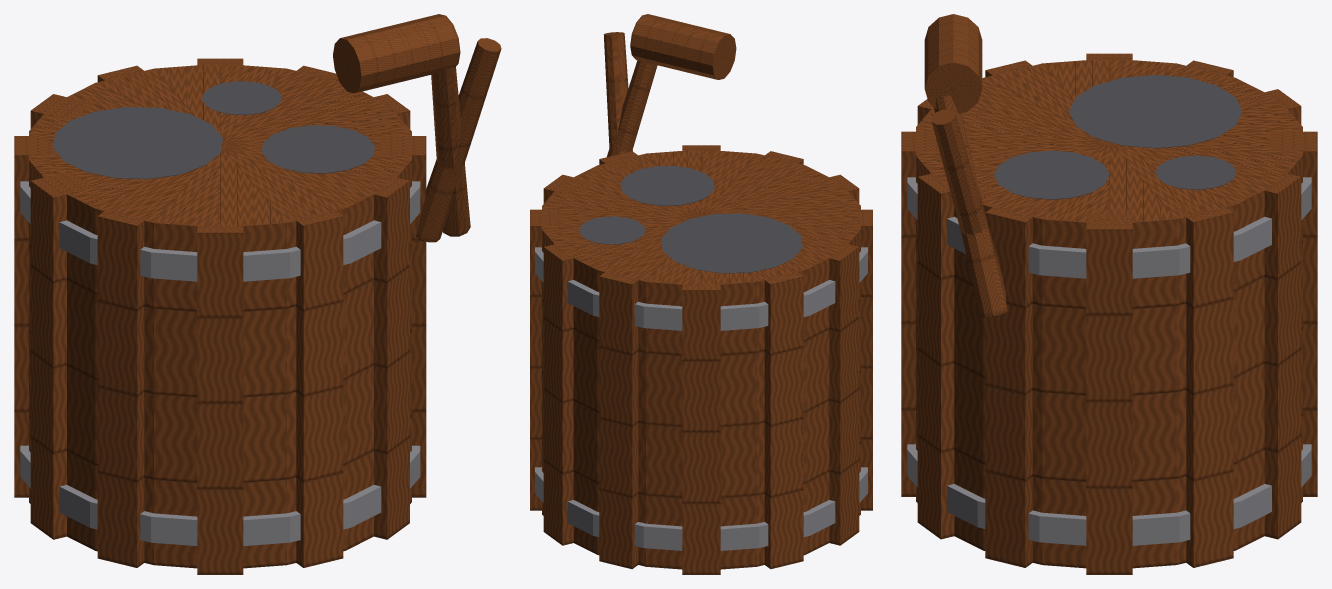
File: blacksmith-forge-and-armoury-blacksmith-forge-and-armo-98d31afa__37597.glb
3 views of the same model, side by side, from view 1: azimuth 30°, elevation 25°; view 2: azimuth 150°, elevation 25°; view 3: azimuth 270°, elevation 25° (orthographic). The views are drawn at different scales.
Visible parts, largest first — view 1: blacksmith-forge-and-armoury-dishing-stump; view 2: blacksmith-forge-and-armoury-dishing-stump; view 3: blacksmith-forge-and-armoury-dishing-stump.
Part boxes in pixels (x1,y1,x2,y2): blacksmith-forge-and-armoury-dishing-stump: (14, 14, 501, 574); blacksmith-forge-and-armoury-dishing-stump: (530, 14, 872, 574); blacksmith-forge-and-armoury-dishing-stump: (901, 14, 1317, 574).
Size of the model in its own units: 0.7591 by 0.95 by 0.72.
Materials: 4 (1 with a texture image).
